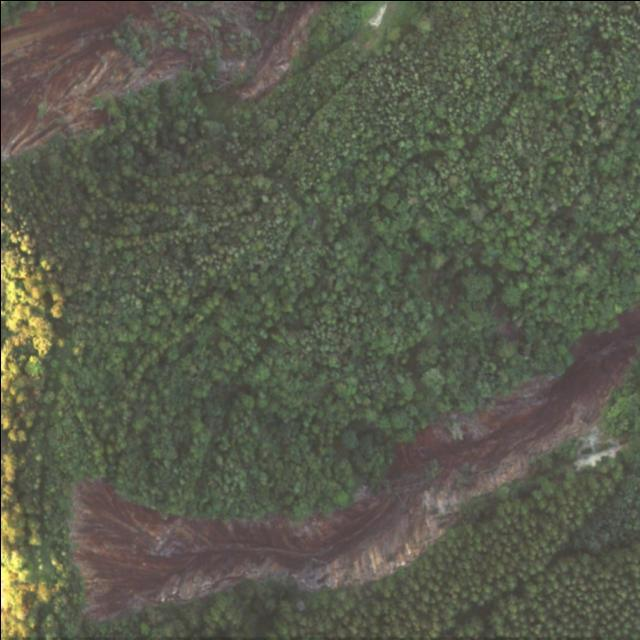landslide: (69, 304, 640, 620), (0, 0, 319, 158)
